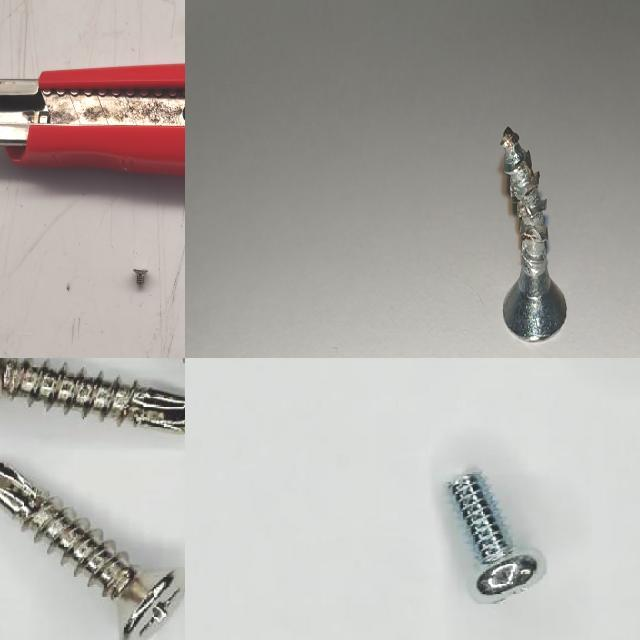Screw: (0, 463, 185, 640), (500, 125, 567, 340), (0, 358, 185, 432), (447, 472, 545, 604), (131, 264, 150, 290)
